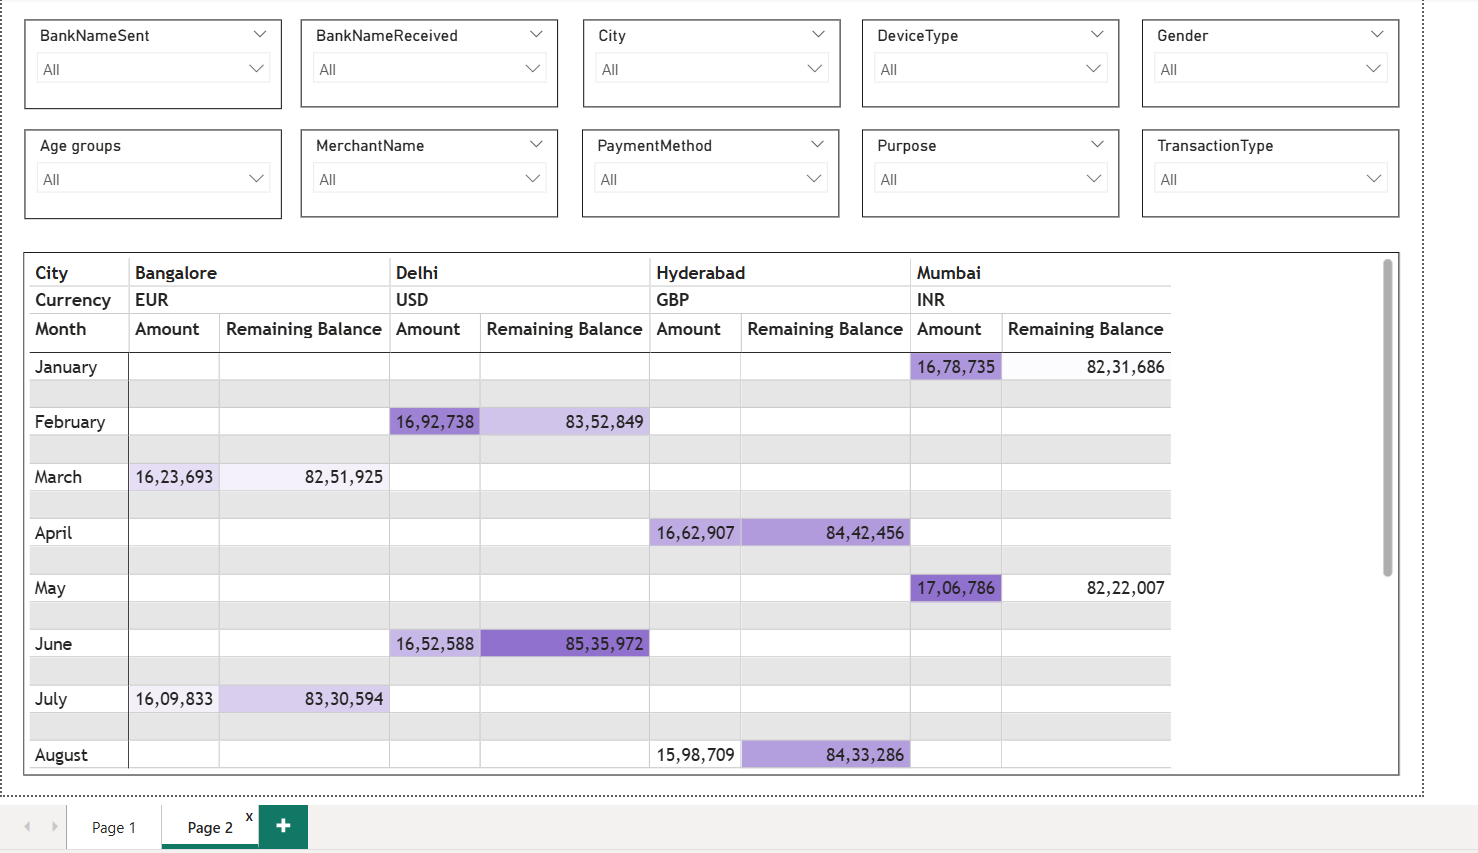

Layout of this report page (visuals, bound fields, positions):
{"tool":"powerbi","page":{"name":"Page 2","canvas":[1280,720],"ordinal":1},"visuals":[{"type":"slicer","fields":{"Values":["UPI Transactions.BankNameSent"]},"box":[20,20,232.3,80.7],"z":0},{"type":"slicer","fields":{"Values":["UPI Transactions.BankNameReceived"]},"box":[269,20.8,232.3,79.5],"z":1000},{"type":"slicer","fields":{"Values":["UPI Transactions.City"]},"box":[524,20.8,232,79.5],"z":2000},{"type":"slicer","fields":{"Values":["UPI Transactions.DeviceType"]},"box":[776,20.8,232,79.5],"z":3000},{"type":"slicer","fields":{"Values":["UPI Transactions.Gender"]},"box":[1028,20.8,232,79.5],"z":4000},{"type":"slicer","fields":{"Values":["UPI Transactions.Age groups"]},"box":[20,120,232.3,80.7],"z":5000},{"type":"slicer","fields":{"Values":["UPI Transactions.MerchantName"]},"box":[269,119.8,232.3,79.5],"z":6000},{"type":"slicer","fields":{"Values":["UPI Transactions.PaymentMethod"]},"box":[523.4,119.8,232.3,79.5],"z":7000},{"type":"slicer","fields":{"Values":["UPI Transactions.Purpose"]},"box":[775.3,119.8,232.3,79.5],"z":8000},{"type":"slicer","fields":{"Values":["UPI Transactions.TransactionType"]},"box":[1028.4,119.8,232.3,79.5],"z":9000},{"type":"pivotTable","fields":{"Values":["Sum(UPI Transactions.Amount)","Sum(UPI Transactions.RemainingBalance)"],"Columns":["UPI Transactions.City","UPI Transactions.Currency"],"Rows":["UPI Transactions.TransactionDate.Variation.Date Hierarchy.Month"]},"box":[19.6,229.9,1241.2,472],"z":10000}]}

Visuals, with their boxes on the page's 1280x720 design canvas (x1, y1, x2, y2). These are canvas units, not pixel positions in the 1478x853 screenshot, which may show the page scaled, cropped or inside an application window:
slicer - UPI Transactions.BankNameSent: box(20, 20, 252, 101)
slicer - UPI Transactions.BankNameReceived: box(269, 21, 501, 100)
slicer - UPI Transactions.City: box(524, 21, 756, 100)
slicer - UPI Transactions.DeviceType: box(776, 21, 1008, 100)
slicer - UPI Transactions.Gender: box(1028, 21, 1260, 100)
slicer - UPI Transactions.Age groups: box(20, 120, 252, 201)
slicer - UPI Transactions.MerchantName: box(269, 120, 501, 199)
slicer - UPI Transactions.PaymentMethod: box(523, 120, 756, 199)
slicer - UPI Transactions.Purpose: box(775, 120, 1008, 199)
slicer - UPI Transactions.TransactionType: box(1028, 120, 1261, 199)
pivotTable - Sum(UPI Transactions.Amount) x Sum(UPI Transactions.RemainingBalance): box(20, 230, 1261, 702)
